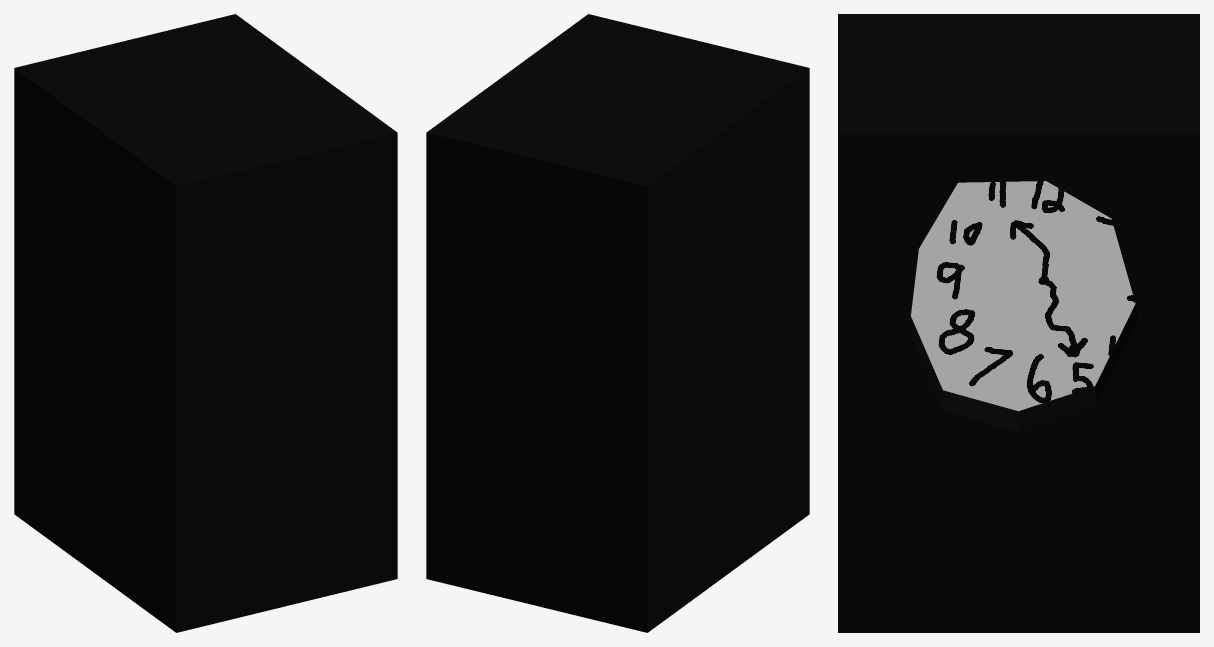
Rendered from Clock.dae.
3 renders of one model, left to right at view 1: azimuth 30°, elevation 25°; view 2: azimuth 150°, elevation 25°; view 3: azimuth 270°, elevation 25°, orthographic. The views are drawn at different scales.
Parts seen in each view (by area): view 1: Cube; view 2: Cube; view 3: Cube.
Boxes of the visible parts, box(x1,y1,x2,y2) form: Cube: box(14, 14, 397, 632); Cube: box(426, 14, 809, 632); Cube: box(838, 14, 1199, 632).
Size of the model in its own units: 1.04 by 1.32 by 2.
2 materials, 1 textured.
